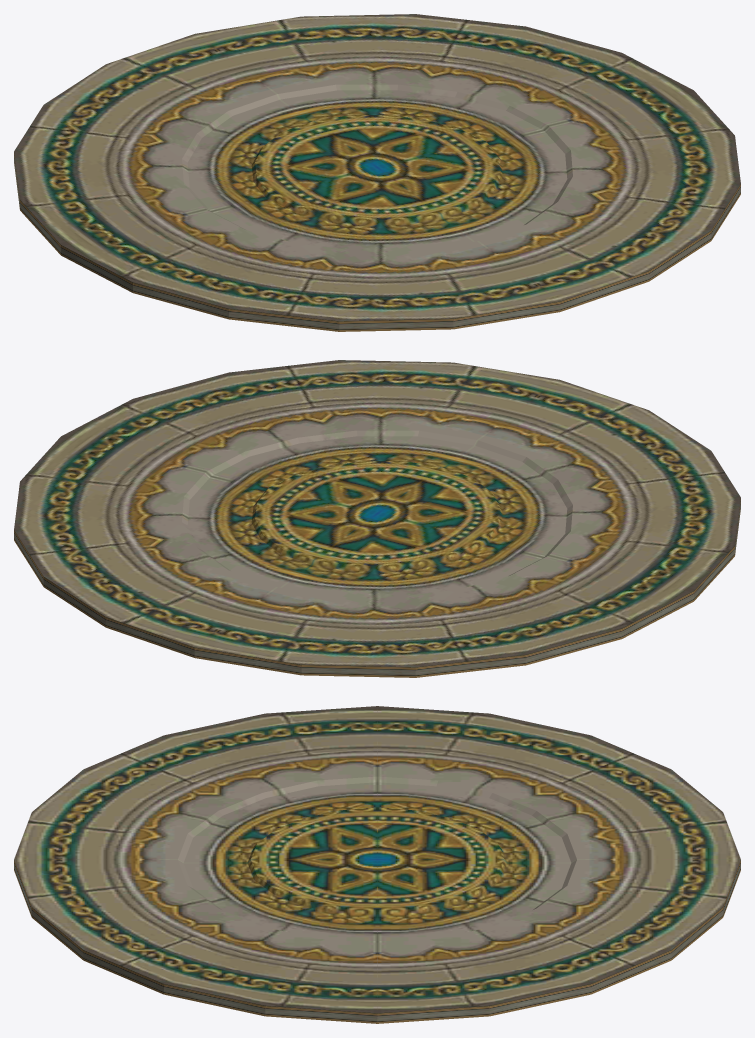
File: Yland1_tz_02 Yland1.FBX
The picture shows the model from 3 angles, top to bottom: view 1: azimuth 30°, elevation 25°; view 2: azimuth 150°, elevation 25°; view 3: azimuth 270°, elevation 25°; orthographic projection.
Parts seen in each view (by area): view 1: Yland1_tz_02 Yland1; view 2: Yland1_tz_02 Yland1; view 3: Yland1_tz_02 Yland1.
Part boxes in pixels (left/top/right/bottom): Yland1_tz_02 Yland1: left=14, top=14, right=740, bottom=331; Yland1_tz_02 Yland1: left=14, top=360, right=740, bottom=677; Yland1_tz_02 Yland1: left=14, top=706, right=740, bottom=1023.
Size of the model in its own units: 8.91 by 0.144 by 8.91.
